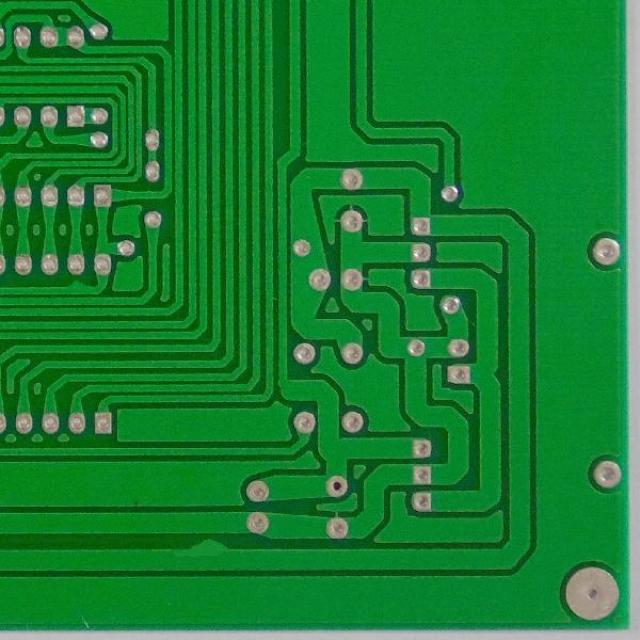spur: (177, 536, 236, 566), (61, 274, 97, 296)
